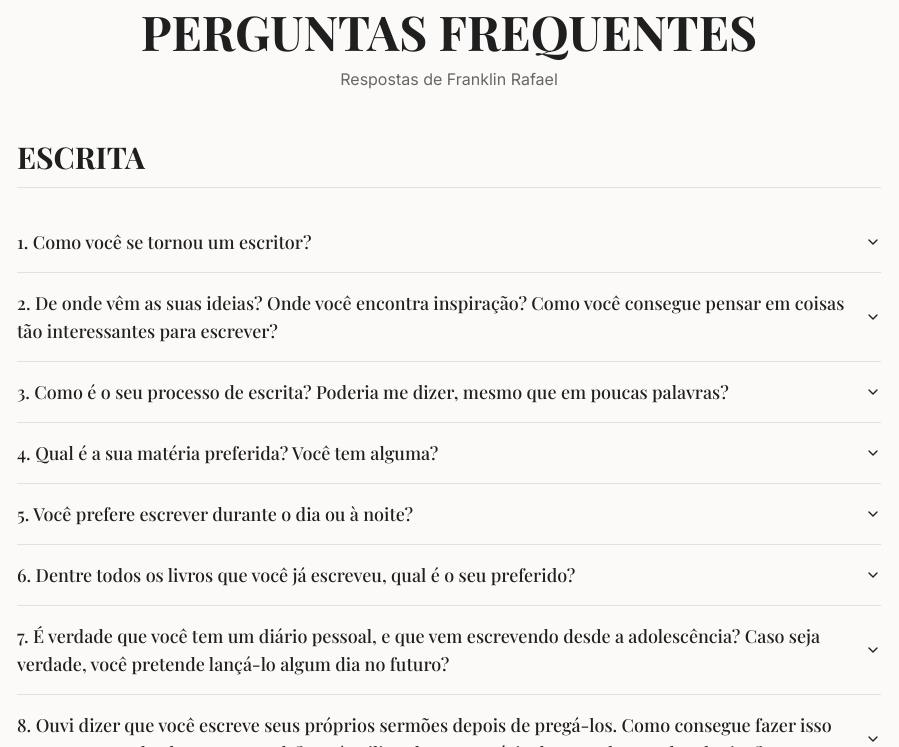
Test: focuses FAQ questions without requesting viewport scrolling on pointer input
Press the mouse on the button "1. Como você se tornou um escritor?" at (164,242), box [17, 212, 881, 272]
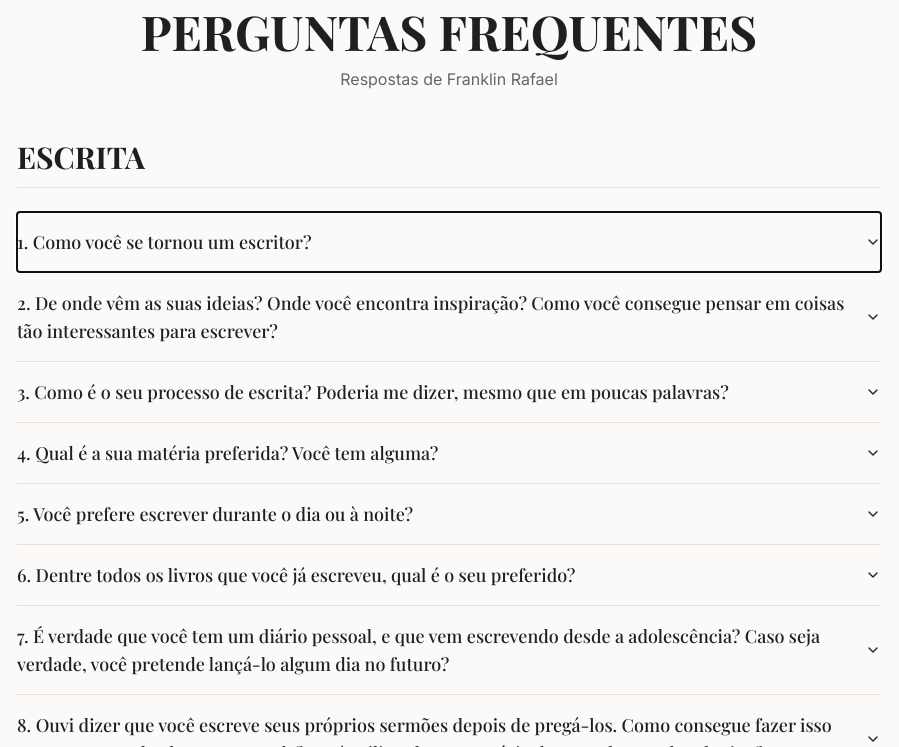
Click the button "1. Como você se tornou um escritor?". click: (164,242)
box: [17, 212, 881, 272]
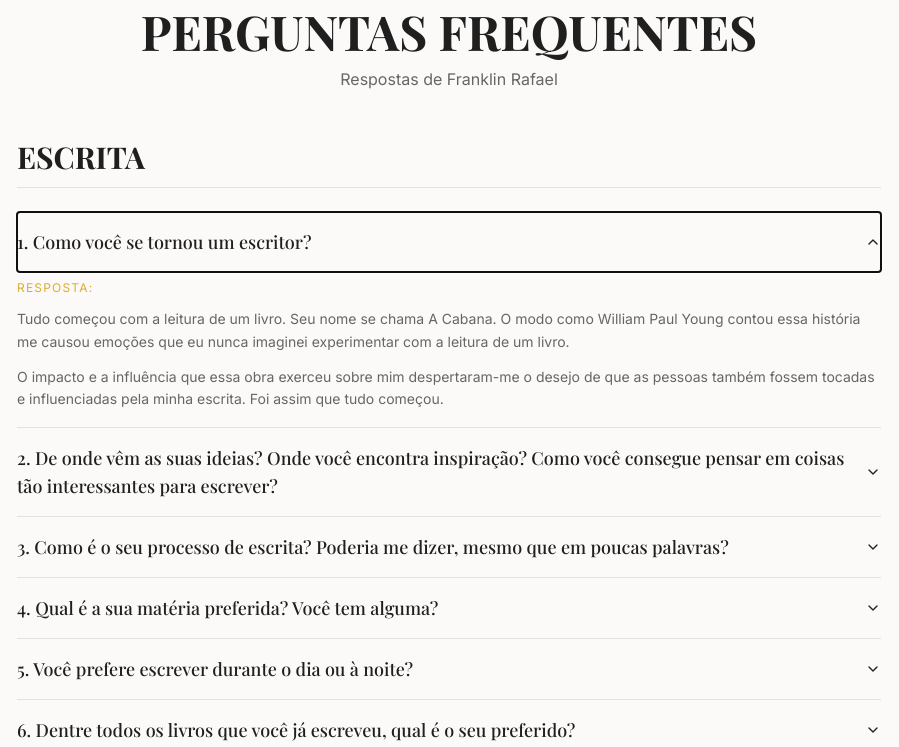
Check: the button "1. Como você se tornou um escritor?" is expanded, box [17, 212, 881, 272]
